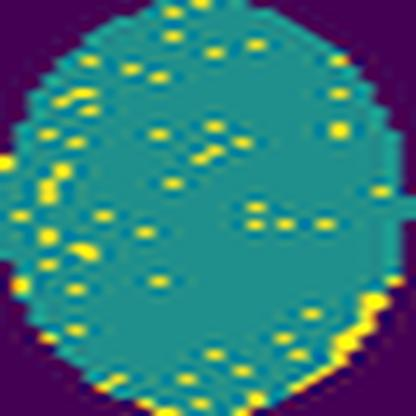Edge-Loc: (285, 286, 393, 396)
